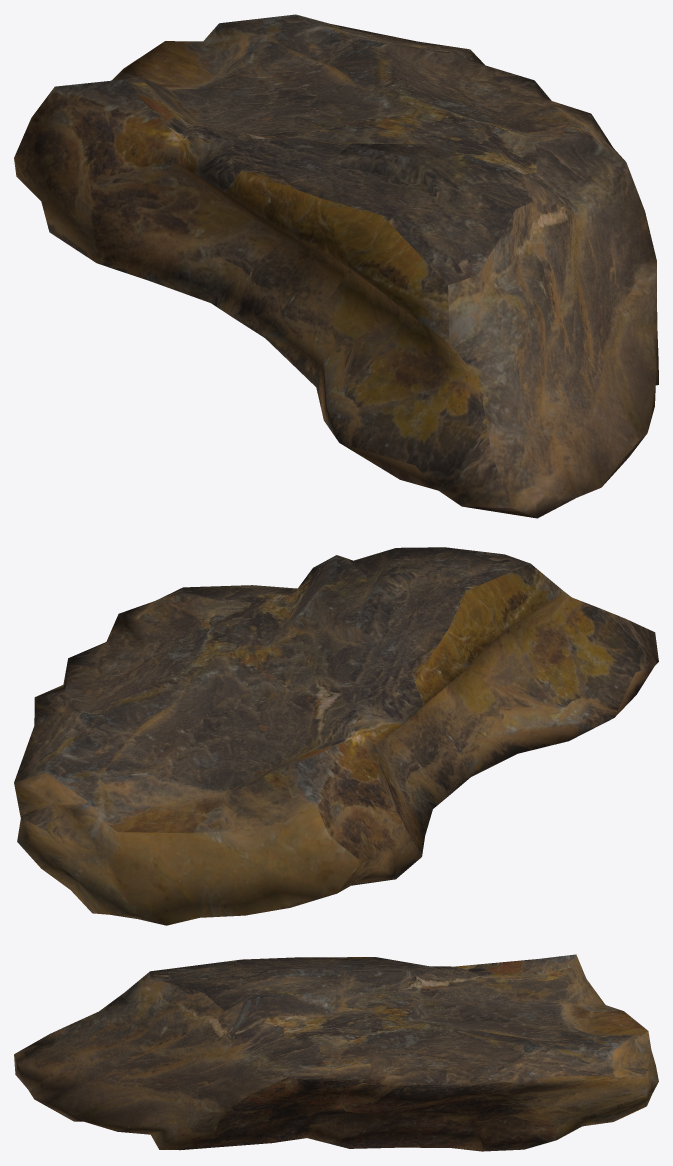
File: SM_Stone_09.gltf
The picture shows the model from 3 angles, top to bottom: view 1: azimuth 30°, elevation 25°; view 2: azimuth 150°, elevation 25°; view 3: azimuth 270°, elevation 25°; orthographic projection. The views are drawn at different scales.
Visible parts, largest first — view 1: SM_Stone_09; view 2: SM_Stone_09; view 3: SM_Stone_09.
Part boxes in pixels (<box>): SM_Stone_09: <box>14,14,658,518</box>; SM_Stone_09: <box>14,547,658,925</box>; SM_Stone_09: <box>14,954,658,1151</box>.
Size of the model in its own units: 0.074 by 0.0332 by 0.1445.
1 material, 1 textured.
